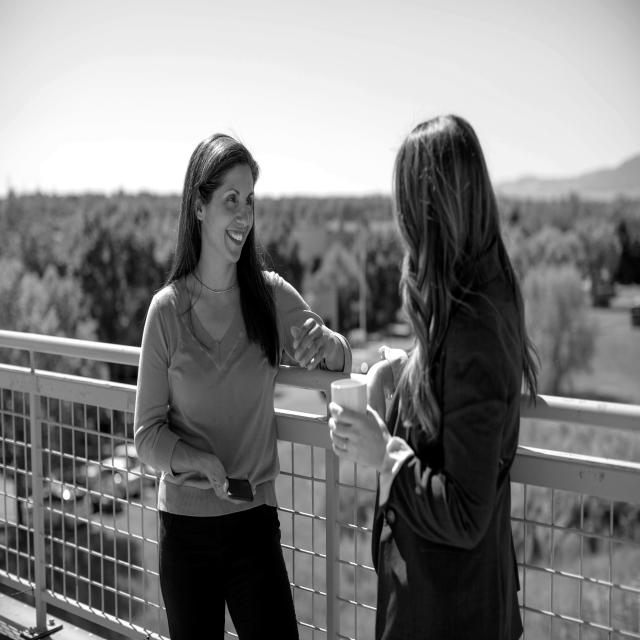No-Vest: (382, 297, 526, 640), (150, 280, 278, 506)
